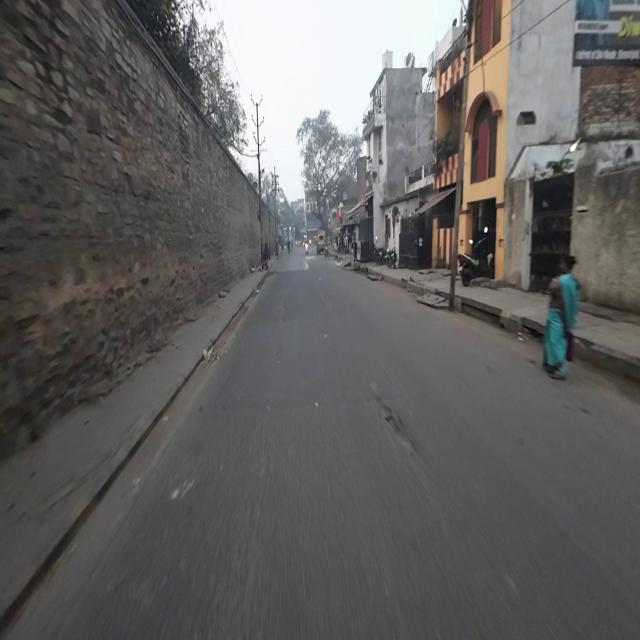Garbage: (200, 343, 222, 369)
